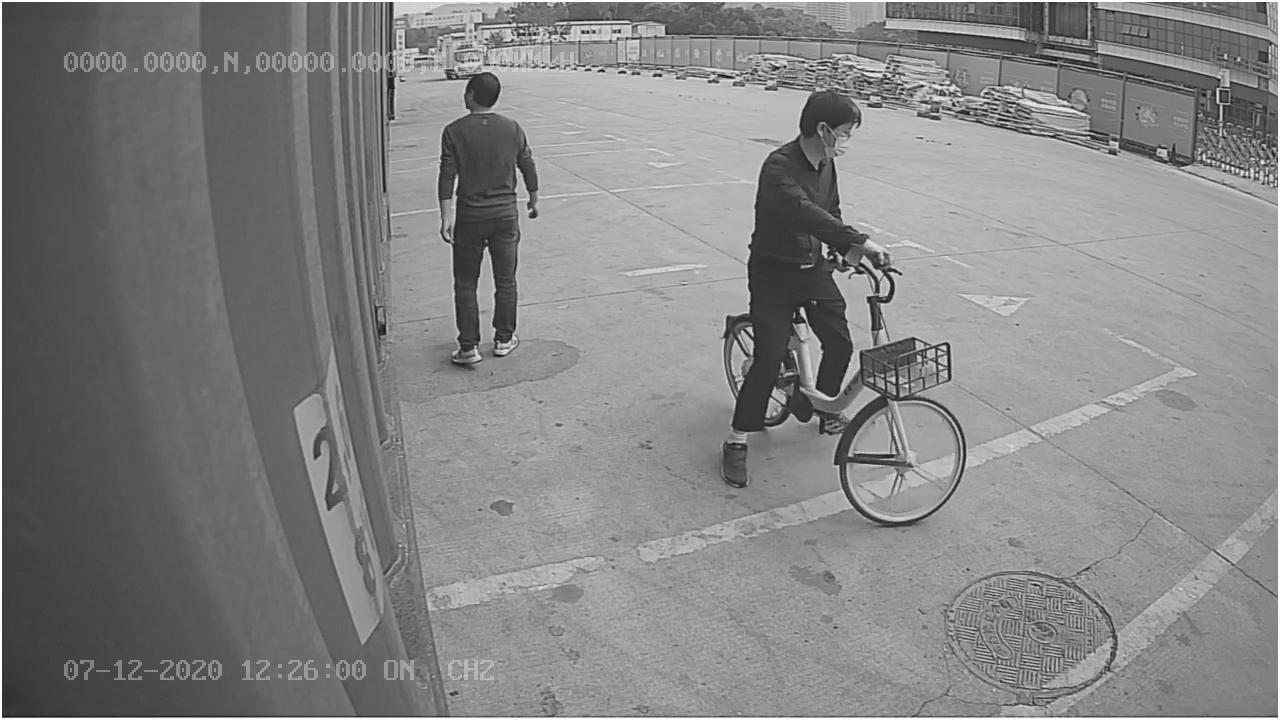person: (429, 67, 544, 369)
